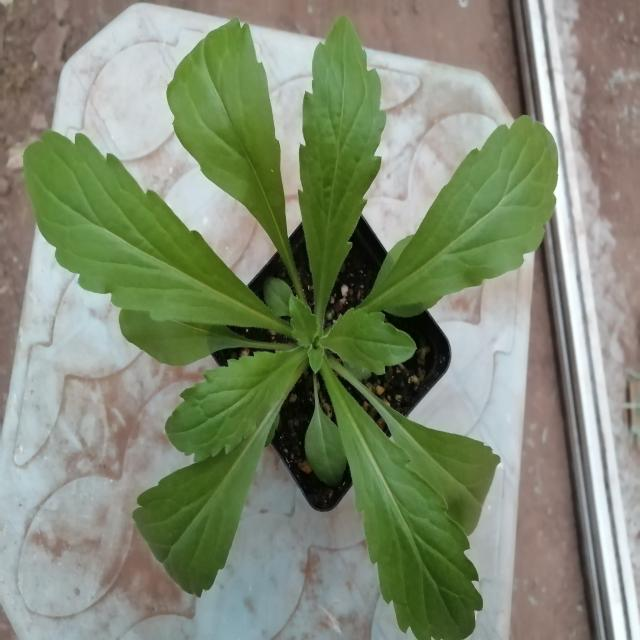horseweed: (67, 53, 529, 599)
